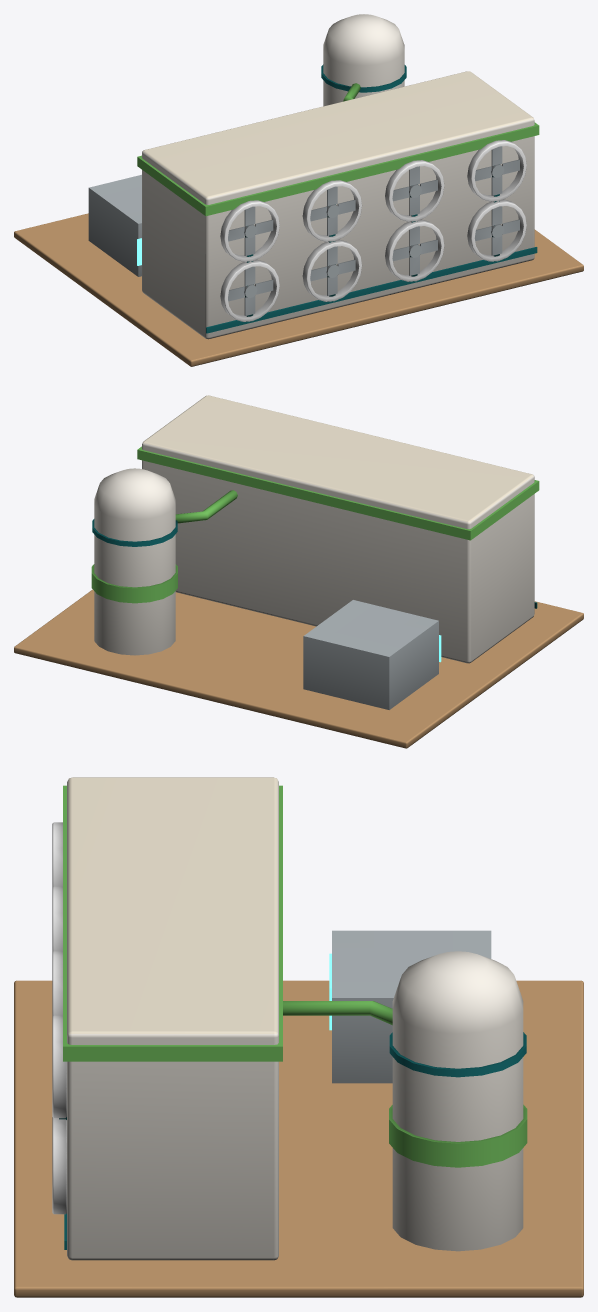
Rendered from dac_unit.fbx.
3 renders of one model, top to bottom at view 1: azimuth 30°, elevation 25°; view 2: azimuth 150°, elevation 25°; view 3: azimuth 270°, elevation 25°, orthographic. The views are drawn at different scales.
Visible parts, largest first — view 1: dac_unit; view 2: dac_unit; view 3: dac_unit.
Boxes of the visible parts, <box> form: dac_unit: <box>14,14,583,366</box>; dac_unit: <box>14,395,583,748</box>; dac_unit: <box>14,777,583,1297</box>.
Size of the model in its own units: 11 by 4.55 by 8.6.
